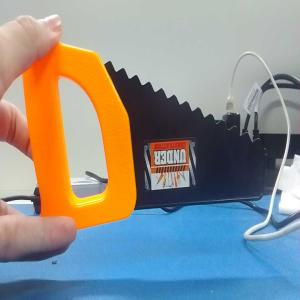serrote: (21, 41, 269, 230)
